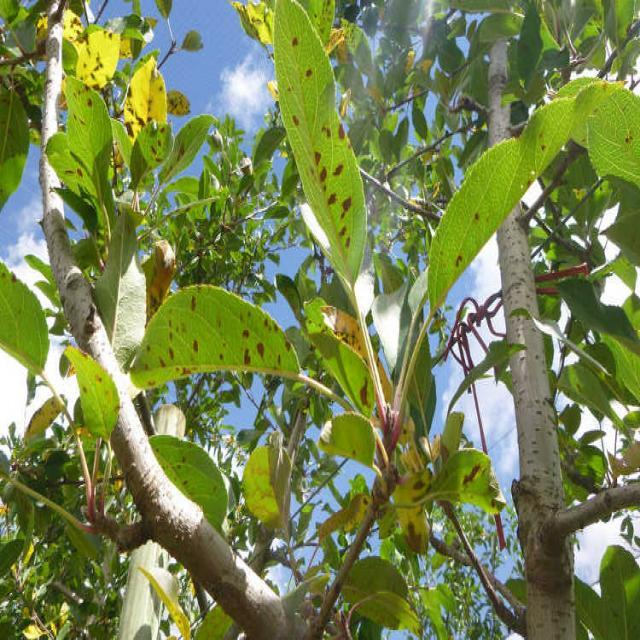Bacterial_Spot: (193, 51, 533, 452), (0, 0, 148, 442)
